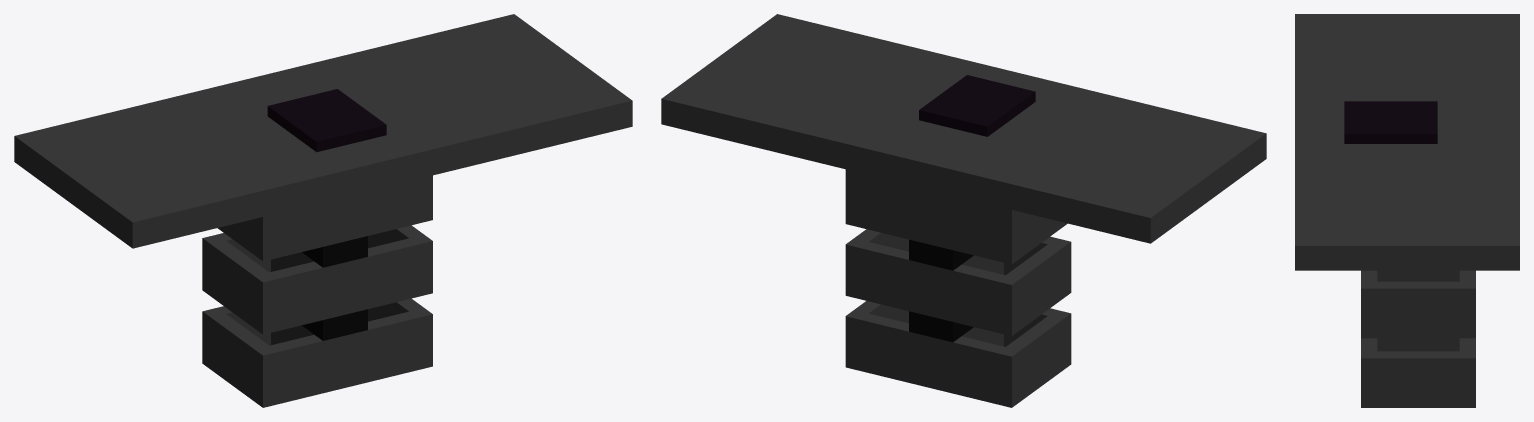
File: dessicant-2.obj
The picture shows the model from 3 angles, left to right: view 1: azimuth 30°, elevation 25°; view 2: azimuth 150°, elevation 25°; view 3: azimuth 270°, elevation 25°; orthographic projection. The views are drawn at different scales.
Size of the model in its own units: 10 by 5 by 4.1.
Materials: 1 (1 with a texture image).
